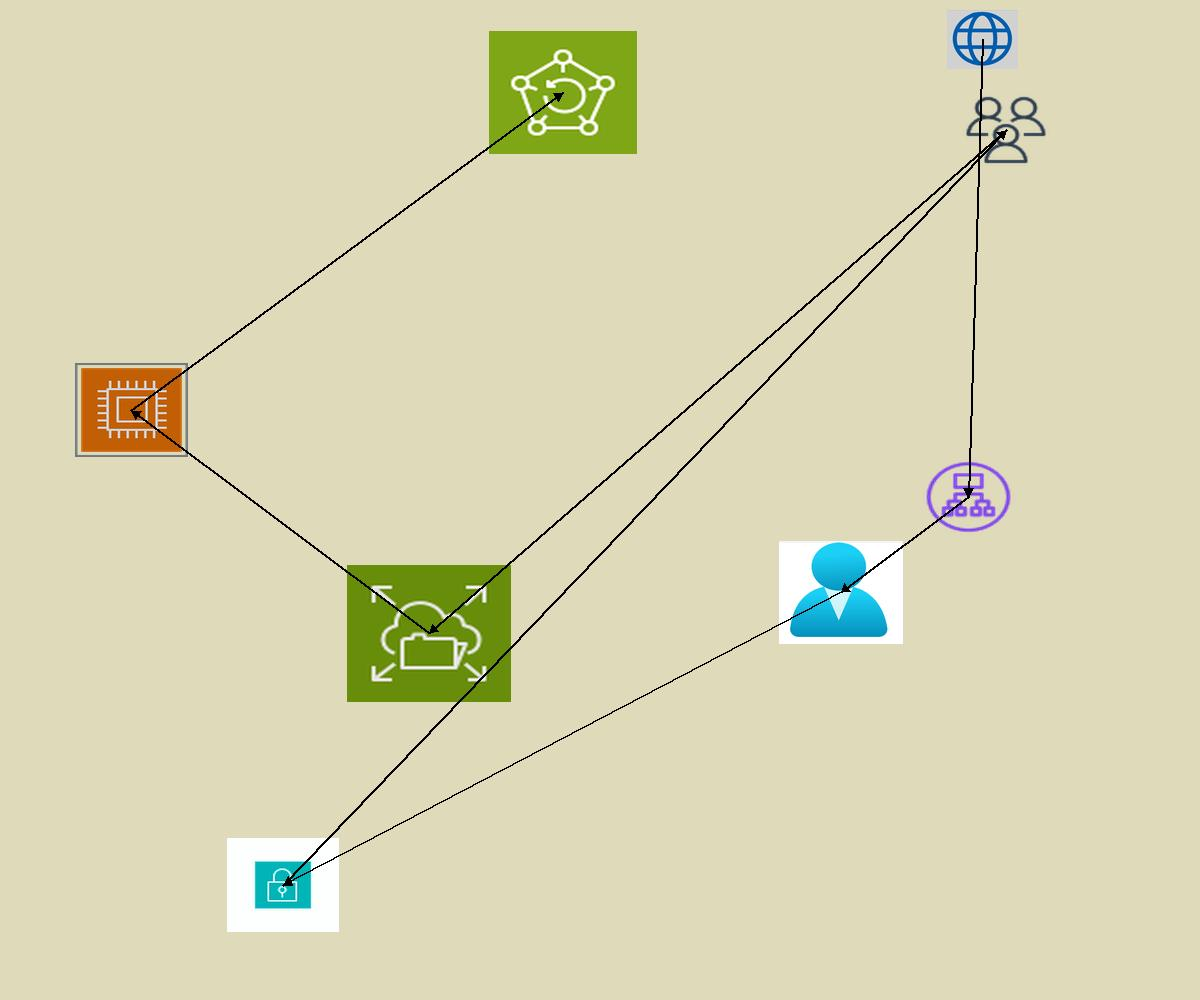AWS-Backup: (489, 31, 637, 154)
AWS-Category_Compute: (75, 363, 188, 457)
AWS-EFS: (347, 565, 511, 702)
AWS-Private-subnet: (227, 838, 339, 932)
AWS-Res_Elastic-Load-Balancing_Application-Load-Balancer: (923, 459, 1014, 535)
AWS-Res_Users: (963, 94, 1049, 166)
Azure_http: (947, 10, 1018, 69)
Azure_users: (779, 541, 903, 644)
